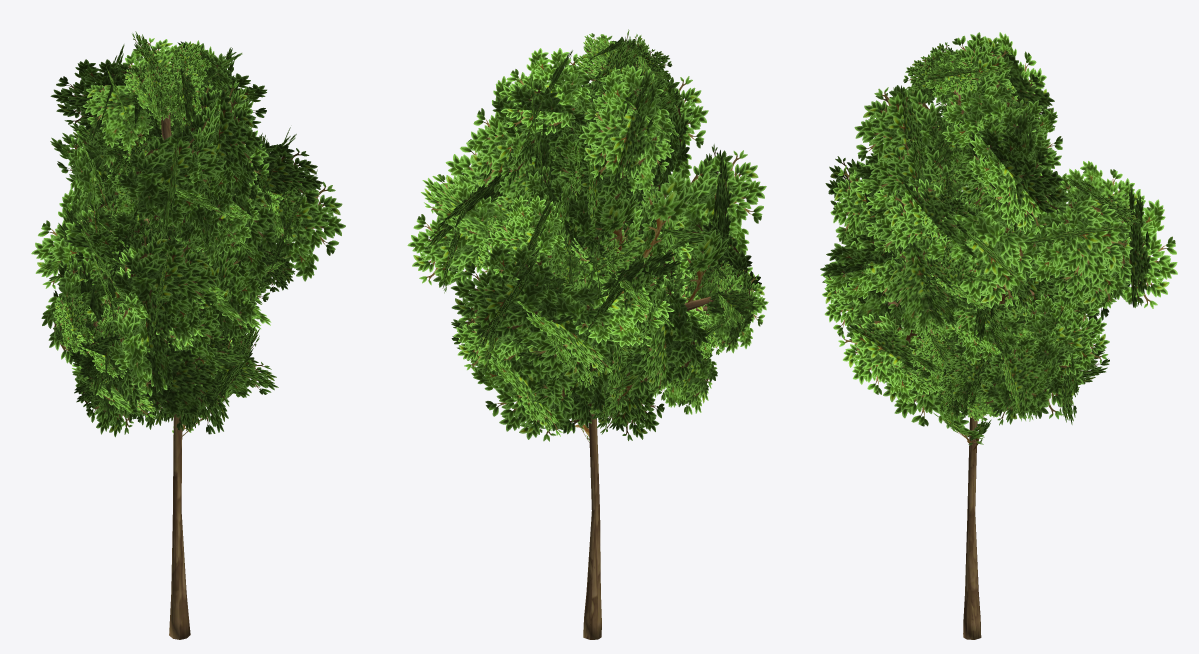
Rendered from arbol 5.fbx.
3 renders of one model, left to right at view 1: azimuth 30°, elevation 25°; view 2: azimuth 150°, elevation 25°; view 3: azimuth 270°, elevation 25°, orthographic. The views are drawn at different scales.
Parts seen in each view (by area): view 1: Plane.200; view 2: Plane.200; view 3: Plane.200.
Part boxes in pixels (bbox=[...]): Plane.200: bbox=[31, 31, 345, 639]; Plane.200: bbox=[407, 29, 768, 639]; Plane.200: bbox=[820, 32, 1177, 639].
Size of the model in its own units: 1828 by 3707 by 2123.
2 materials, 2 textured.
